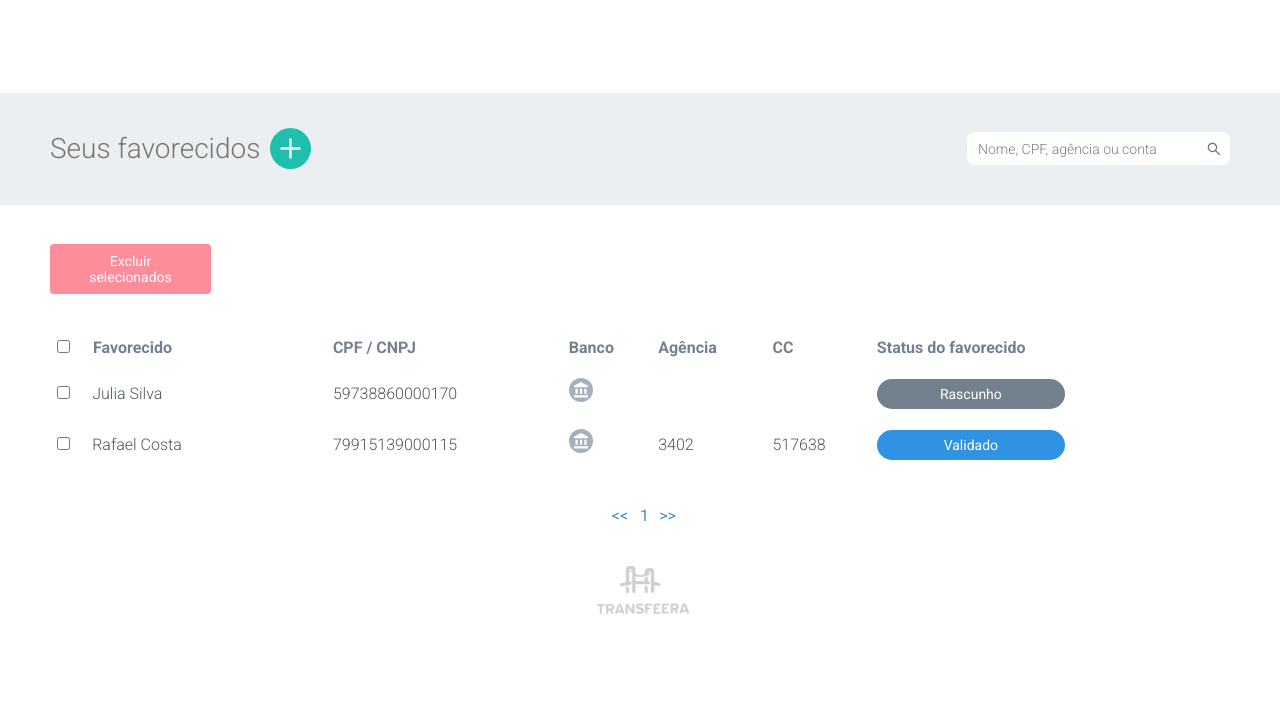
Test case: Delete dialog › should show success message after successful deletion
This screenshot has width=1280, height=720.
Click the button "Rafael Costa". click: (137, 445)
box: [73, 426, 201, 464]
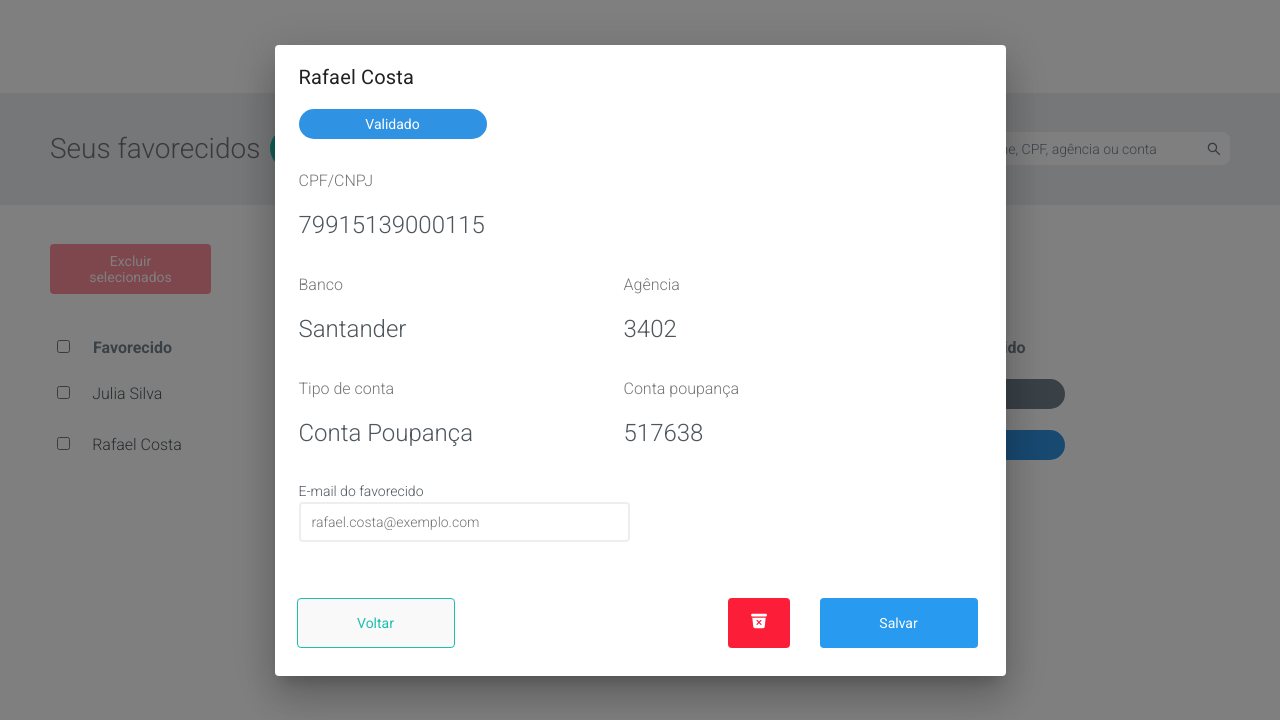
Click the button with test id "delete-button". click: (758, 622)
box: [728, 598, 790, 648]
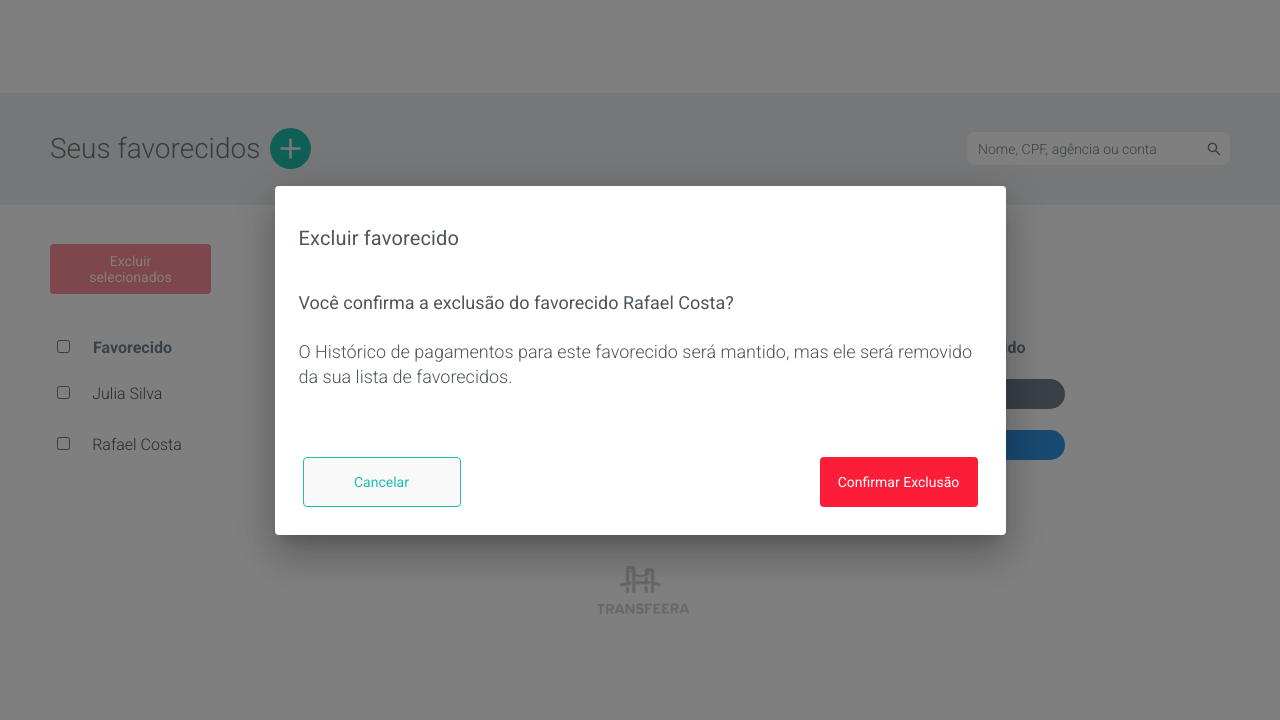
Click the button with test id "confirm-deletion". click: (898, 482)
box: [820, 456, 978, 506]
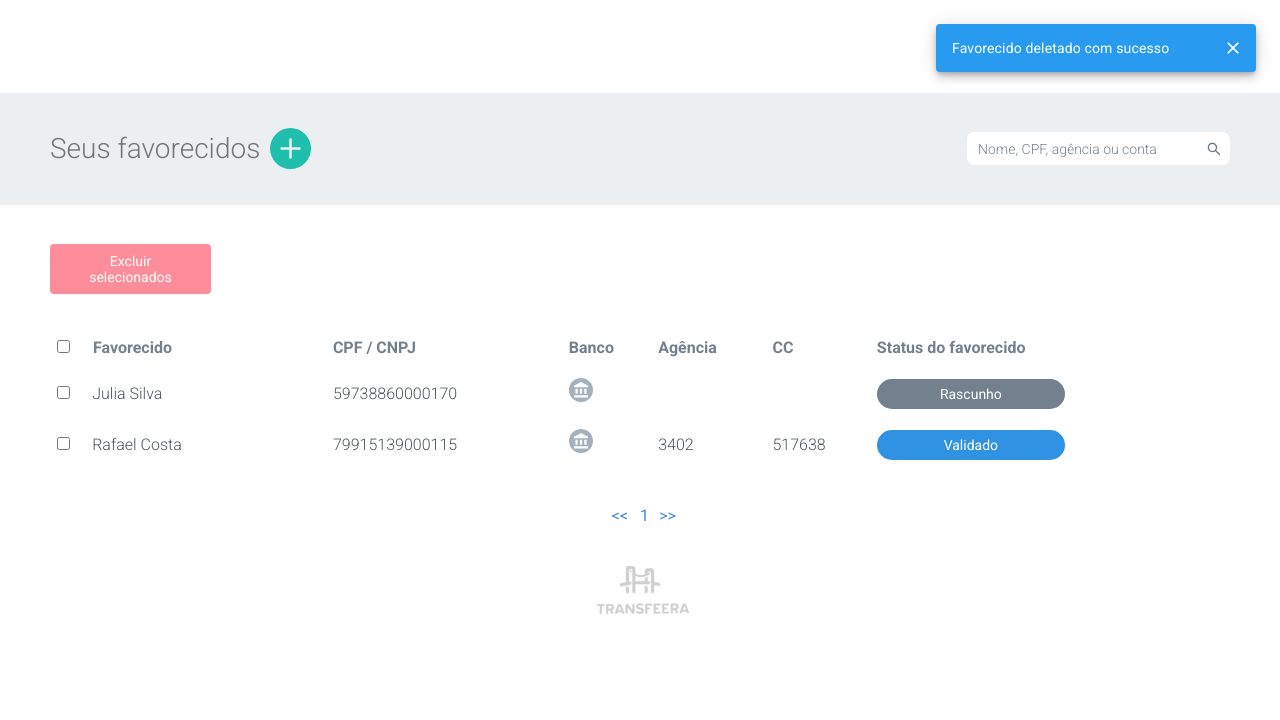
Expected: the text "Favorecido deletado com sucesso" is shown, [952, 40, 1169, 56]
